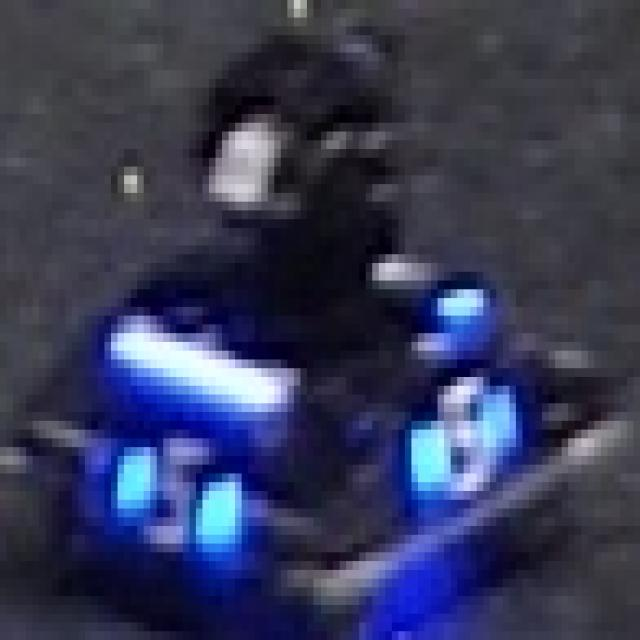B5: (111, 429, 242, 570), (411, 359, 516, 500)
